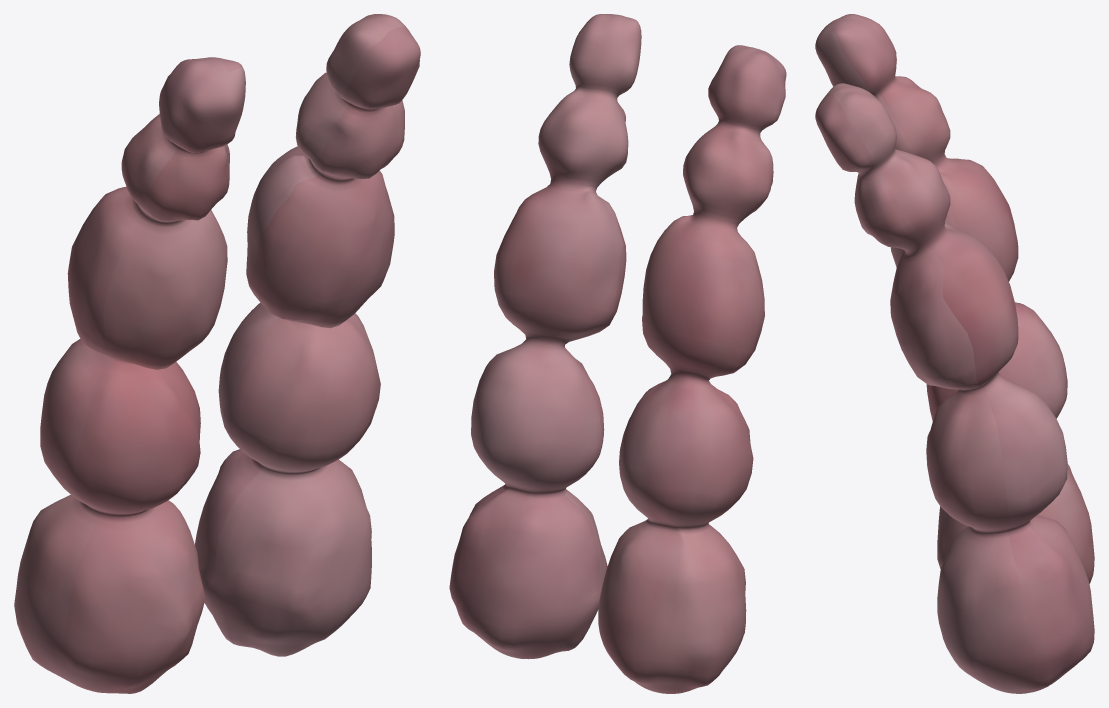
File: Thymus.fbx
The picture shows the model from 3 angles, left to right: view 1: azimuth 30°, elevation 25°; view 2: azimuth 150°, elevation 25°; view 3: azimuth 270°, elevation 25°; orthographic projection. The views are drawn at different scales.
Visible parts, largest first — view 1: Thymus_LOD0; view 2: Thymus_LOD0; view 3: Thymus_LOD0.
Boxes of the visible parts, left/top/right/bottom form: Thymus_LOD0: left=14, top=14, right=420, bottom=693; Thymus_LOD0: left=449, top=14, right=786, bottom=693; Thymus_LOD0: left=815, top=14, right=1094, bottom=693.
Size of what is drawn, in the model's own units: 0.1252 by 0.2531 by 0.1073.
Materials: 1 (1 with a texture image).
